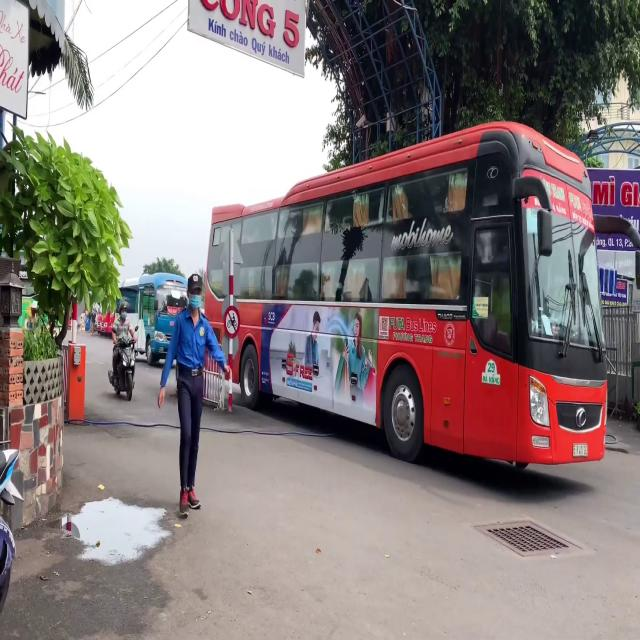bien_trang: (571, 444, 588, 458)
